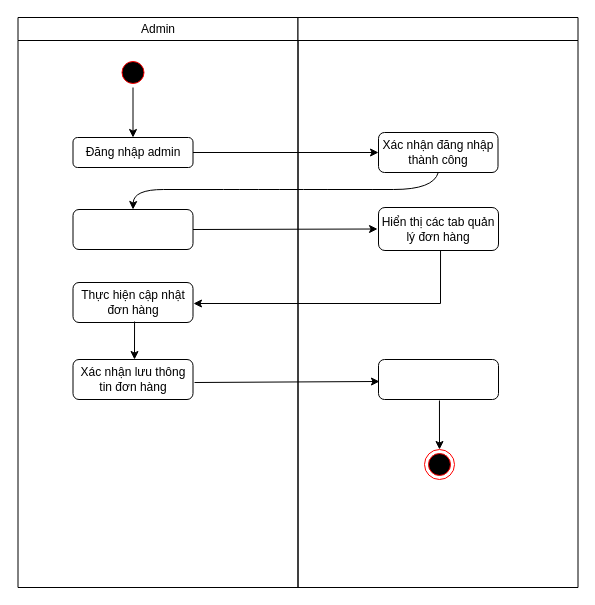
This 595x605 diagram has some shape labels left out. Each missing label, with the box of its shape:
Chọn quản lý đơn hàng: (72, 208, 193, 250)
Cập nhật trong cơ sở dữ liệu: (378, 358, 498, 400)
Hệ thống: (297, 16, 578, 588)
